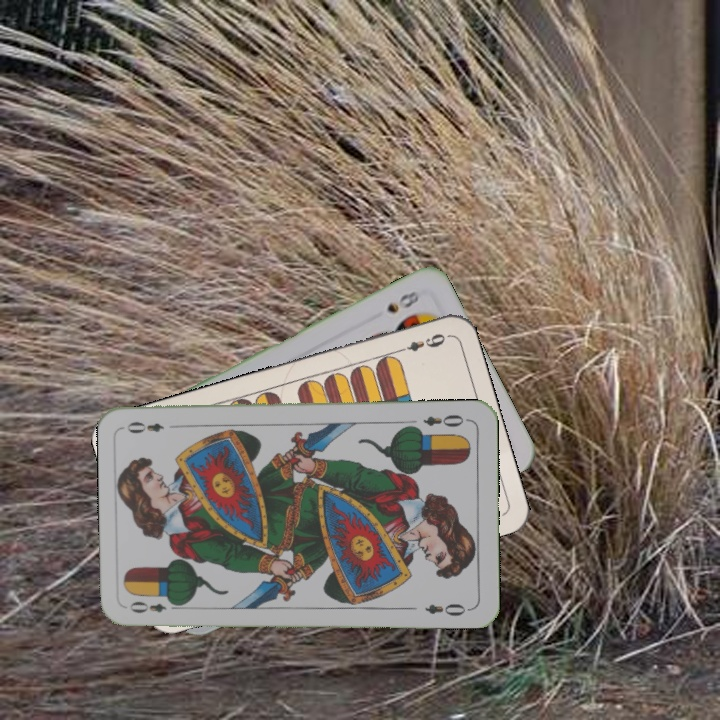E9: (393, 329, 451, 356)
EO: (125, 596, 183, 616), (419, 410, 471, 430)
S8: (382, 287, 422, 316)
